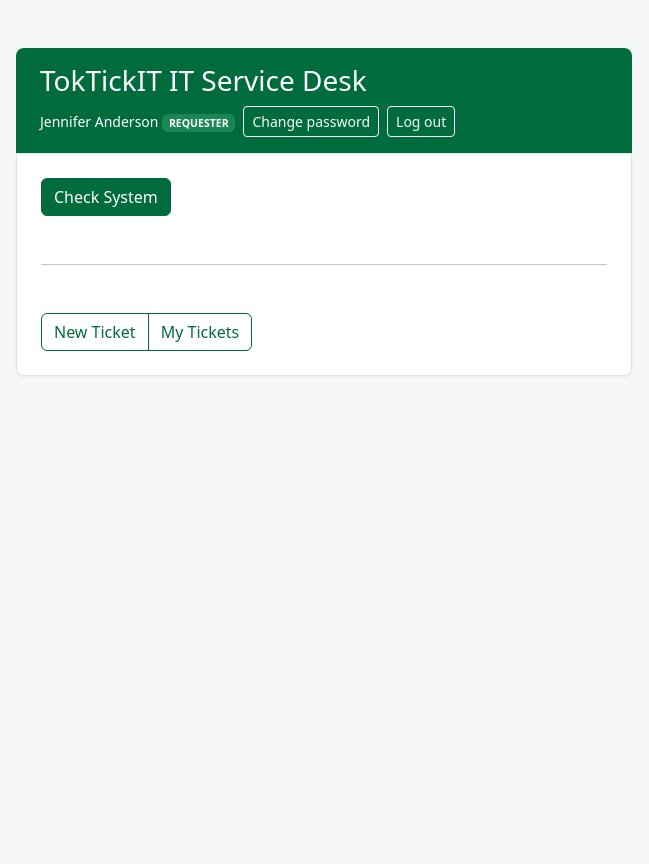
Test: CreateTicketForm › lets the same session submit another ticket
The width and height of the screenshot is (649, 864).
Click the button "New Ticket".
click(95, 332)  # box [41,313,149,351]
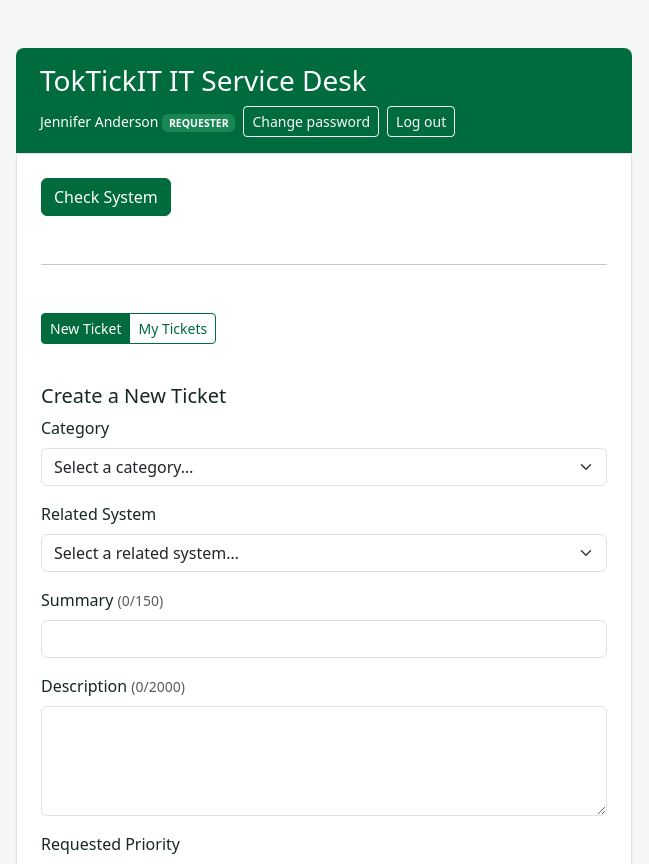
Select "Hardware" in the dropdown labelled "Category" at [324, 467], box [41,448,607,486]
Select "Email" in the dropdown labelled "Related System" at [324, 553], box [41,534,607,572]
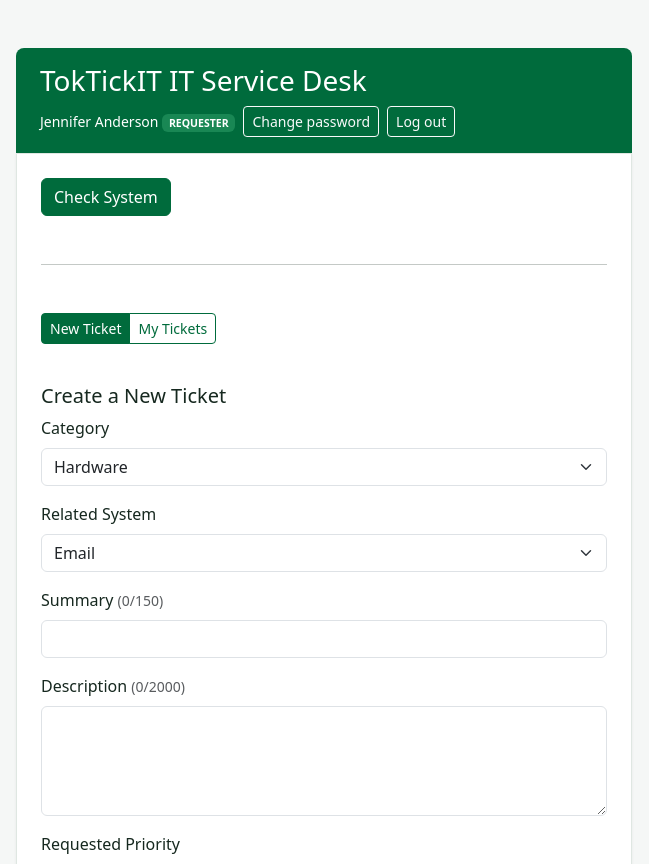
Type "Laptop battery drains quickly" into the field labelled "Summary (0/150)".
click(324, 639); type("Laptop battery drains quickly")  # box [41,620,607,658]
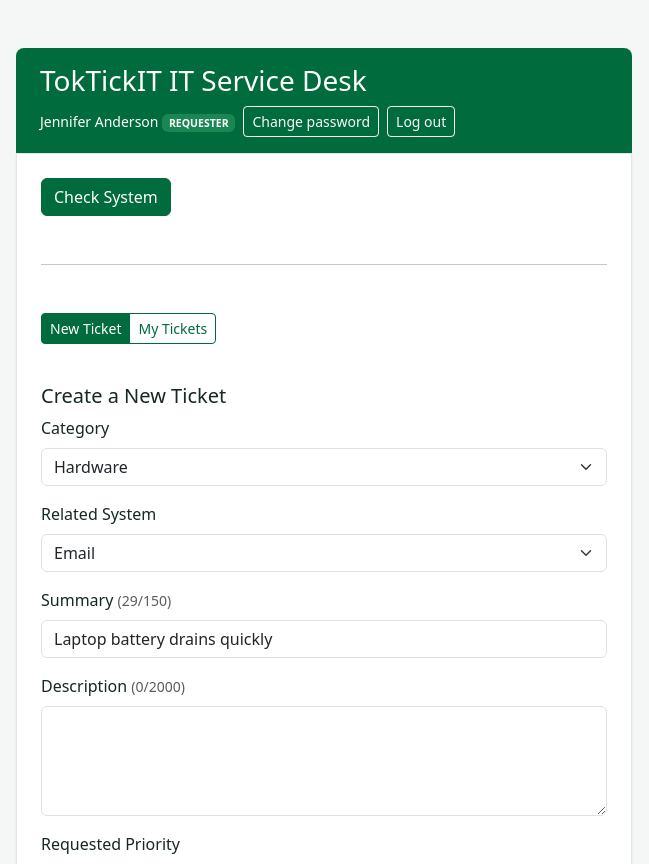
Type "Battery drains much faster than usual." into the text box labelled "Description (0/2000)".
click(324, 761); type("Battery drains much faster than usual.")  # box [41,706,607,816]
(page scrolled)
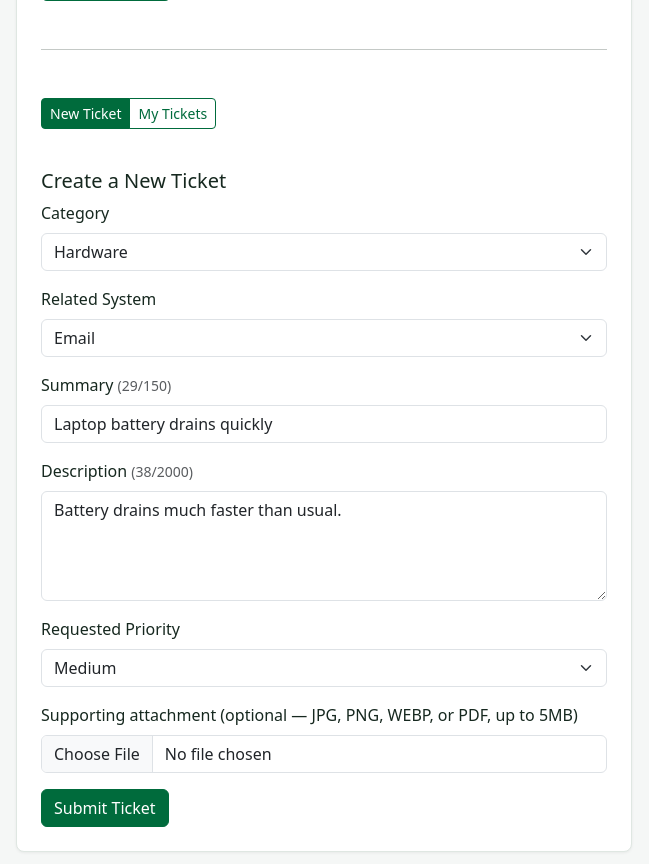
Click the button "Submit Ticket".
click(105, 808)  # box [41,789,169,827]
(page scrolled)
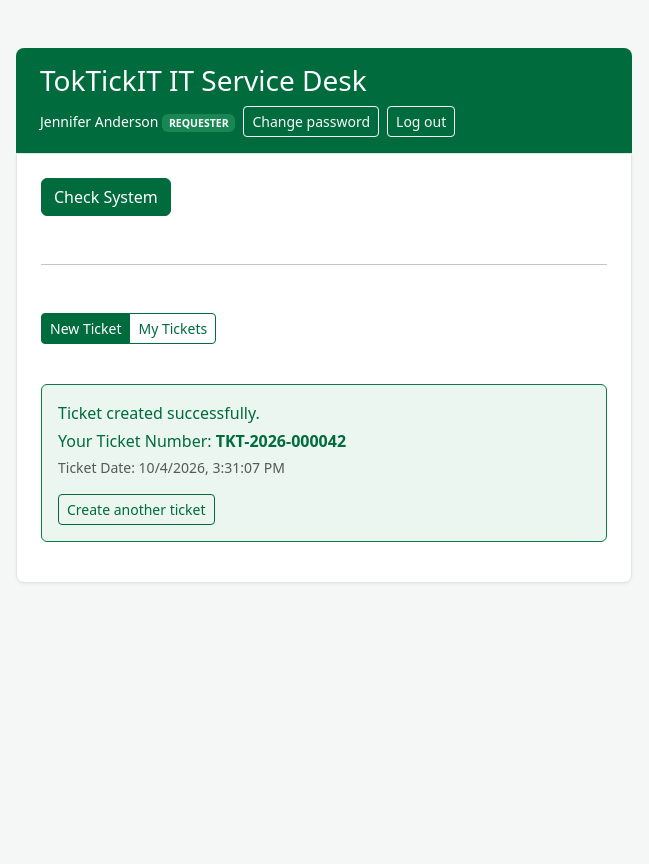
Result: the text "TKT-2026-000042" is shown at [216,430,346,452]
Click the button "Create another ticket".
click(136, 509)  # box [58,494,214,525]
(page scrolled)
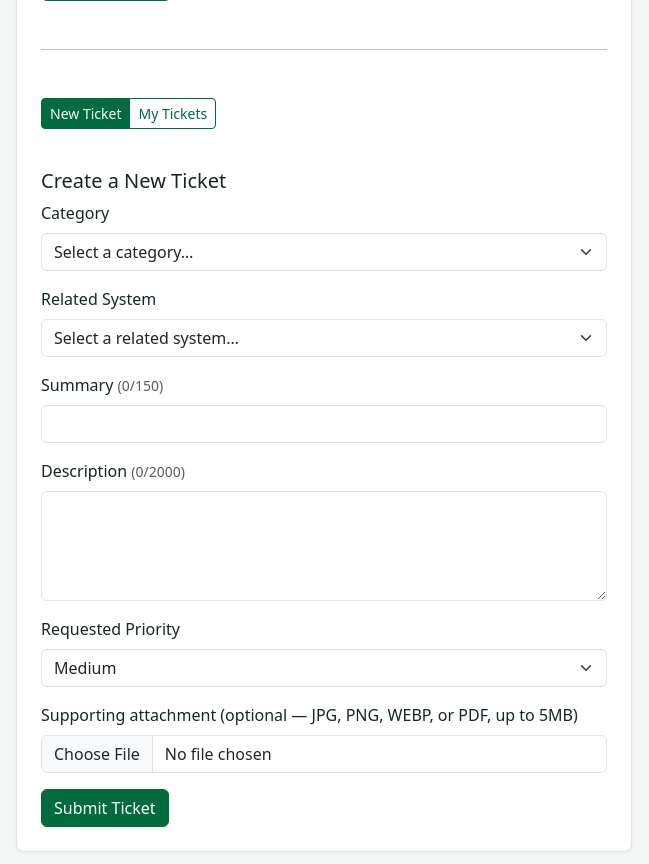
Result: the button "Submit Ticket" is shown at [41,789,169,827]
